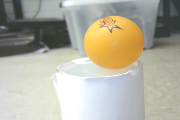PingPongBall: (84, 16, 144, 69)
